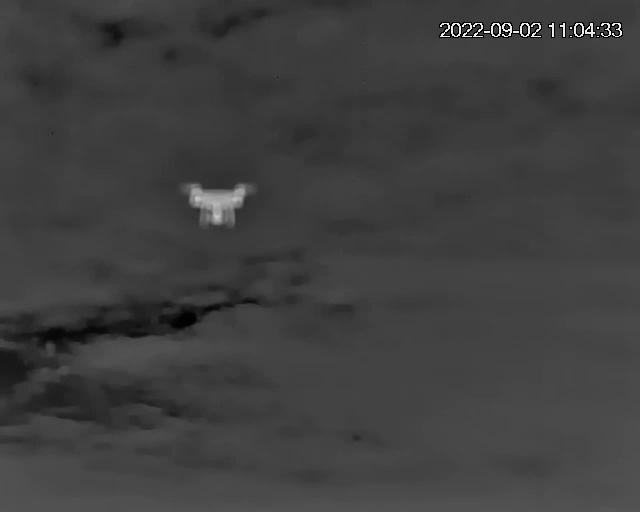DJI-Phantom: (184, 181, 257, 229)
